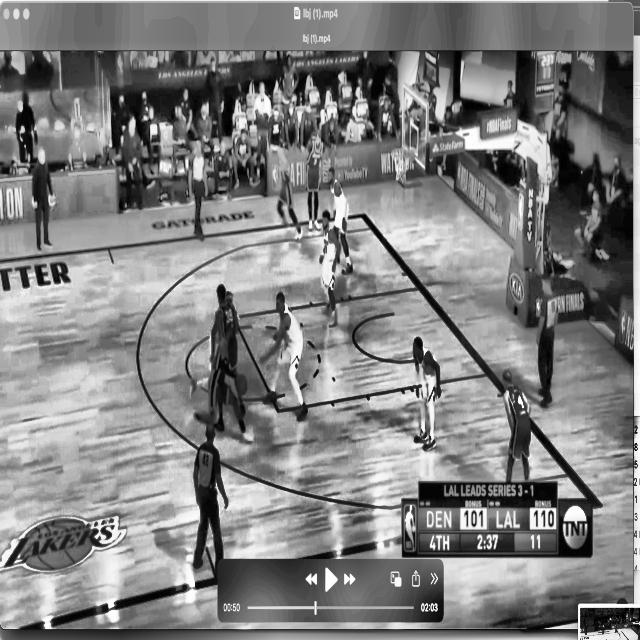Basketball: (234, 374, 247, 397)
